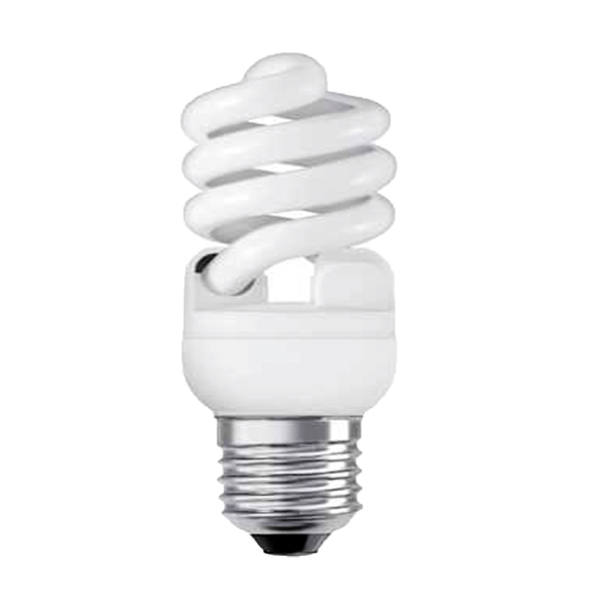Light_bulb: (169, 44, 404, 568)
